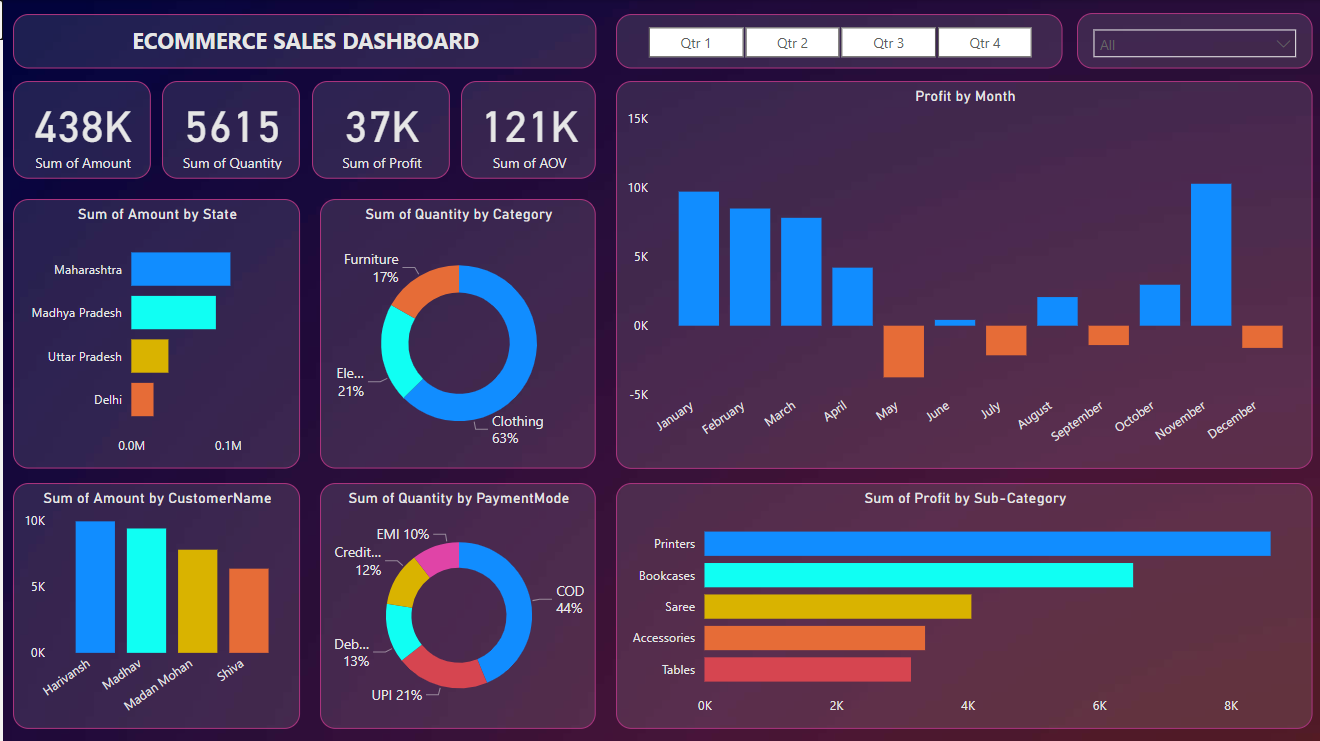

The dashboard page shown, as its layout file describes it:
{"tool":"powerbi","page":{"name":"Page 1","canvas":[1280,720],"ordinal":0},"visuals":[{"type":"textbox","box":[9.7,13.6,566.6,53.5],"z":0},{"type":"columnChart","title":"Profit by Month","fields":{"Category":["Orders.Order Date.Variation.Date Hierarchy.Month"],"Y":["Sum(Details.Profit)"]},"box":[595.8,78.7,677.4,377.1],"z":1000},{"type":"barChart","fields":{"Category":["Details.Sub-Category"],"Y":["Sum(Details.Profit)"]},"box":[595.8,469.4,677.4,239.1],"z":2000},{"type":"donutChart","fields":{"Category":["Details.Category"],"Y":["Sum(Details.Quantity)"]},"box":[308.1,193.4,268.2,262.4],"z":3000},{"type":"donutChart","fields":{"Y":["Sum(Details.Quantity)"],"Category":["Details.PaymentMode"]},"box":[308.1,469.4,268.2,239.1],"z":4000},{"type":"card","fields":{"Values":["Sum(Details.Amount)"]},"box":[9.7,78.7,134.1,95.2],"z":5000},{"type":"card","fields":{"Values":["Sum(Details.AOV)"]},"box":[445.1,78.7,131.2,95.2],"z":6000},{"type":"card","fields":{"Values":["Sum(Details.Profit)"]},"box":[300.3,78.7,134.1,95.2],"z":7000},{"type":"card","fields":{"Values":["Sum(Details.Quantity)"]},"box":[154.5,78.7,134.1,95.2],"z":8000},{"type":"barChart","fields":{"Y":["Sum(Details.Amount)"],"Category":["Orders.State"]},"box":[9.7,193.4,278.9,262.4],"z":9000},{"type":"columnChart","fields":{"Category":["Orders.CustomerName"],"Y":["Sum(Details.Amount)"]},"box":[9.7,469.4,278.9,239.1],"z":10000},{"type":"slicer","fields":{"Values":["Orders.Order Date.Variation.Date Hierarchy.Quarter"]},"box":[595.8,13.6,434.4,53.5],"z":11000},{"type":"slicer","fields":{"Values":["Orders.State"]},"box":[1043.8,12.6,229.4,54.4],"z":12000},{"type":"actionButton","box":[0,0,100,40],"z":12001}]}

Visuals, with their boxes in screenshot pixels (x1, y1, x2, y2), scaled from the page's 1280x720 canvas onto the 1320x741 screenshot:
textbox: [x1=10, y1=14, x2=594, y2=69]
"Profit by Month" columnChart: [x1=614, y1=81, x2=1313, y2=469]
barChart - Details.Sub-Category x Sum(Details.Profit): [x1=614, y1=483, x2=1313, y2=729]
donutChart - Details.Category x Sum(Details.Quantity): [x1=318, y1=199, x2=594, y2=469]
donutChart - Sum(Details.Quantity) x Details.PaymentMode: [x1=318, y1=483, x2=594, y2=729]
card - Sum(Details.Amount): [x1=10, y1=81, x2=148, y2=179]
card - Sum(Details.AOV): [x1=459, y1=81, x2=594, y2=179]
card - Sum(Details.Profit): [x1=310, y1=81, x2=448, y2=179]
card - Sum(Details.Quantity): [x1=159, y1=81, x2=298, y2=179]
barChart - Sum(Details.Amount) x Orders.State: [x1=10, y1=199, x2=298, y2=469]
columnChart - Orders.CustomerName x Sum(Details.Amount): [x1=10, y1=483, x2=298, y2=729]
slicer - Orders.Order Date.Variation.Date Hierarchy.Quarter: [x1=614, y1=14, x2=1062, y2=69]
slicer - Orders.State: [x1=1076, y1=13, x2=1313, y2=69]
actionButton: [x1=0, y1=0, x2=103, y2=41]
